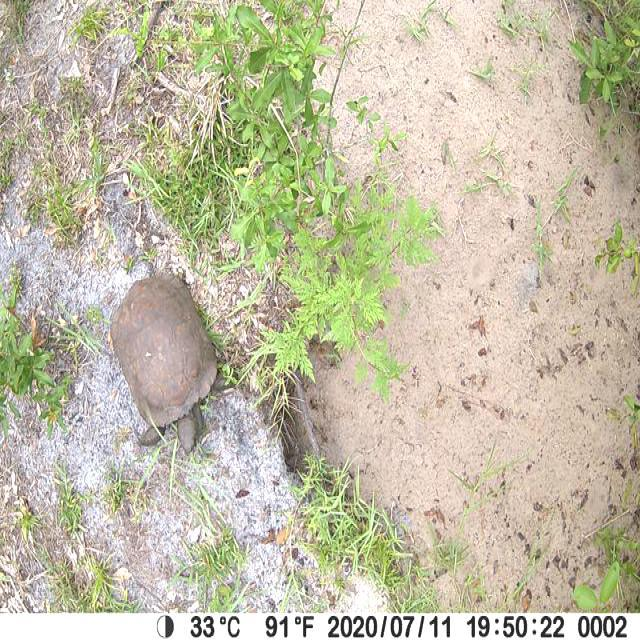tortoise: (107, 269, 219, 455)
